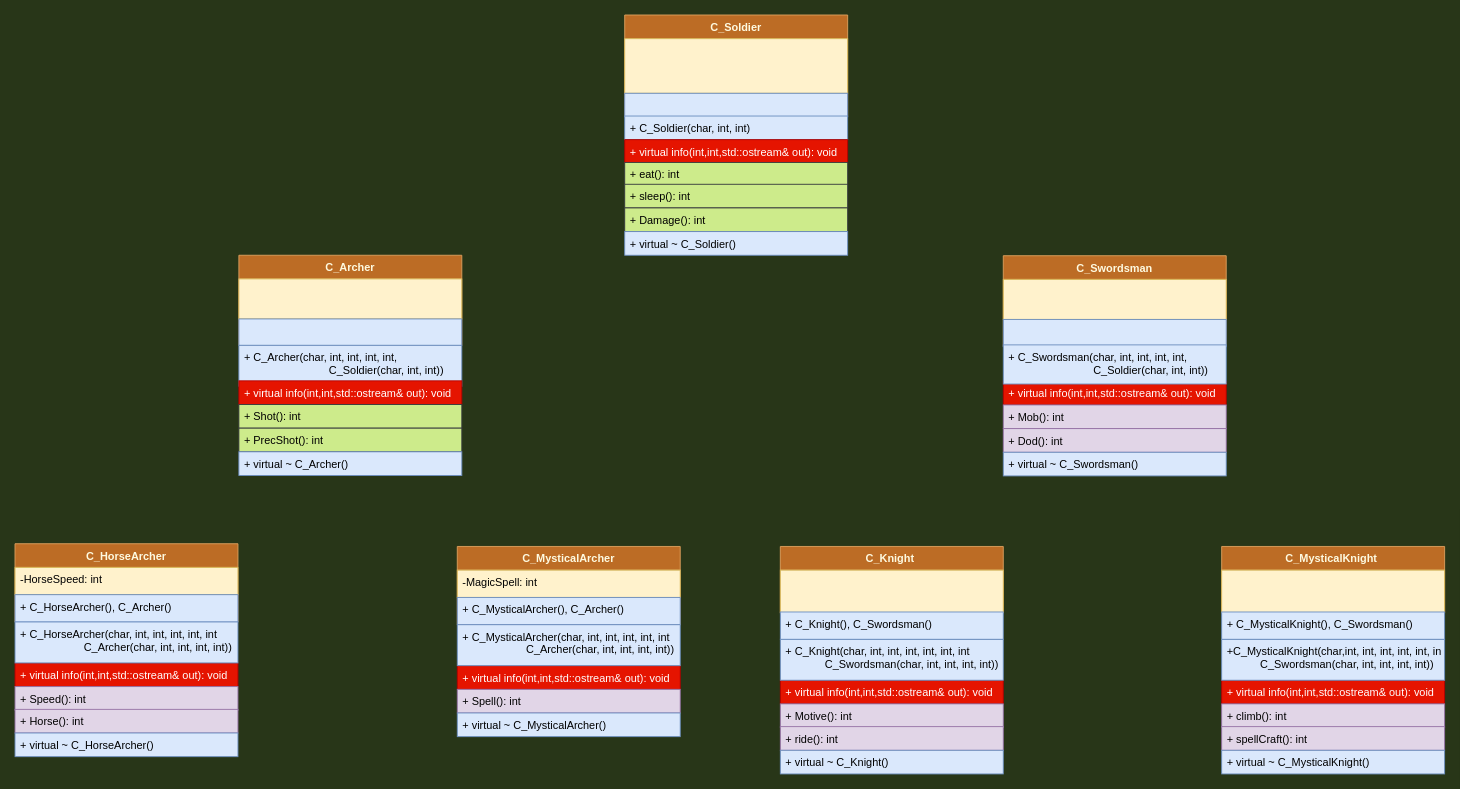
The diagram is 1460 pixels wide and 789 high, and some of its shapes have lost their labels. Here are the shapes that lost their labels. From the top down, the centre of each, then its label:
the point at 736,65: + name: char + honor: int + force: int
the point at 736,104: + C_Soldier()
the point at 350,298: - PointBlankShot: int - PreciseShot: int
the point at 1114,298: - Mobility: int - Dodge: int
the point at 350,331: + C_Archer()
the point at 1114,332: + C_Swordsman()
the point at 891,591: -SenseMotive: int -Ride: int
the point at 1333,591: -Climb: int -SpellCraft: int
